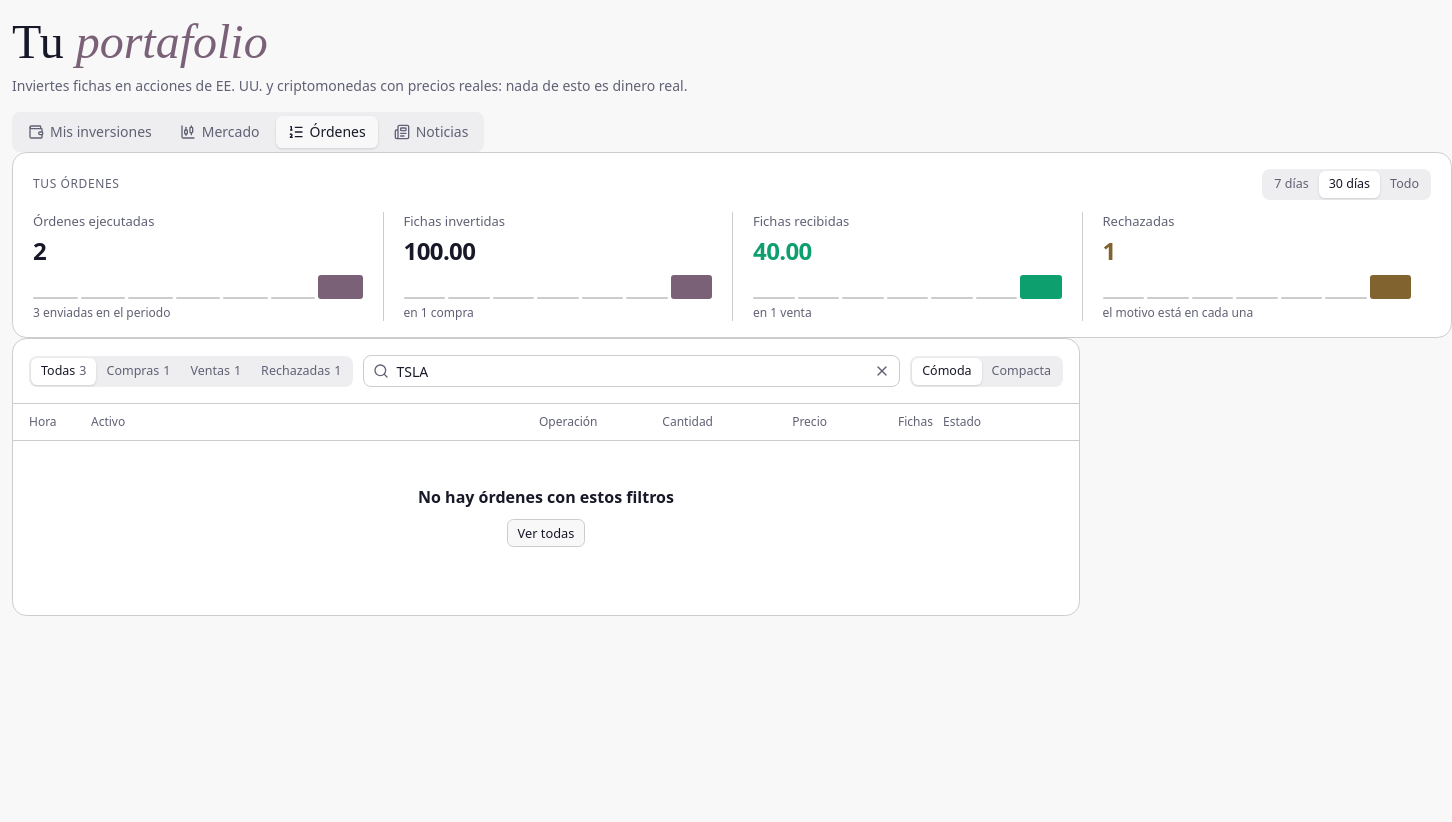
Test: OrdersPage › sin filtros que coincidan ofrece ver todas
The width and height of the screenshot is (1452, 822).
Click the button "Ver todas" at (546, 533), box [507, 519, 585, 547]
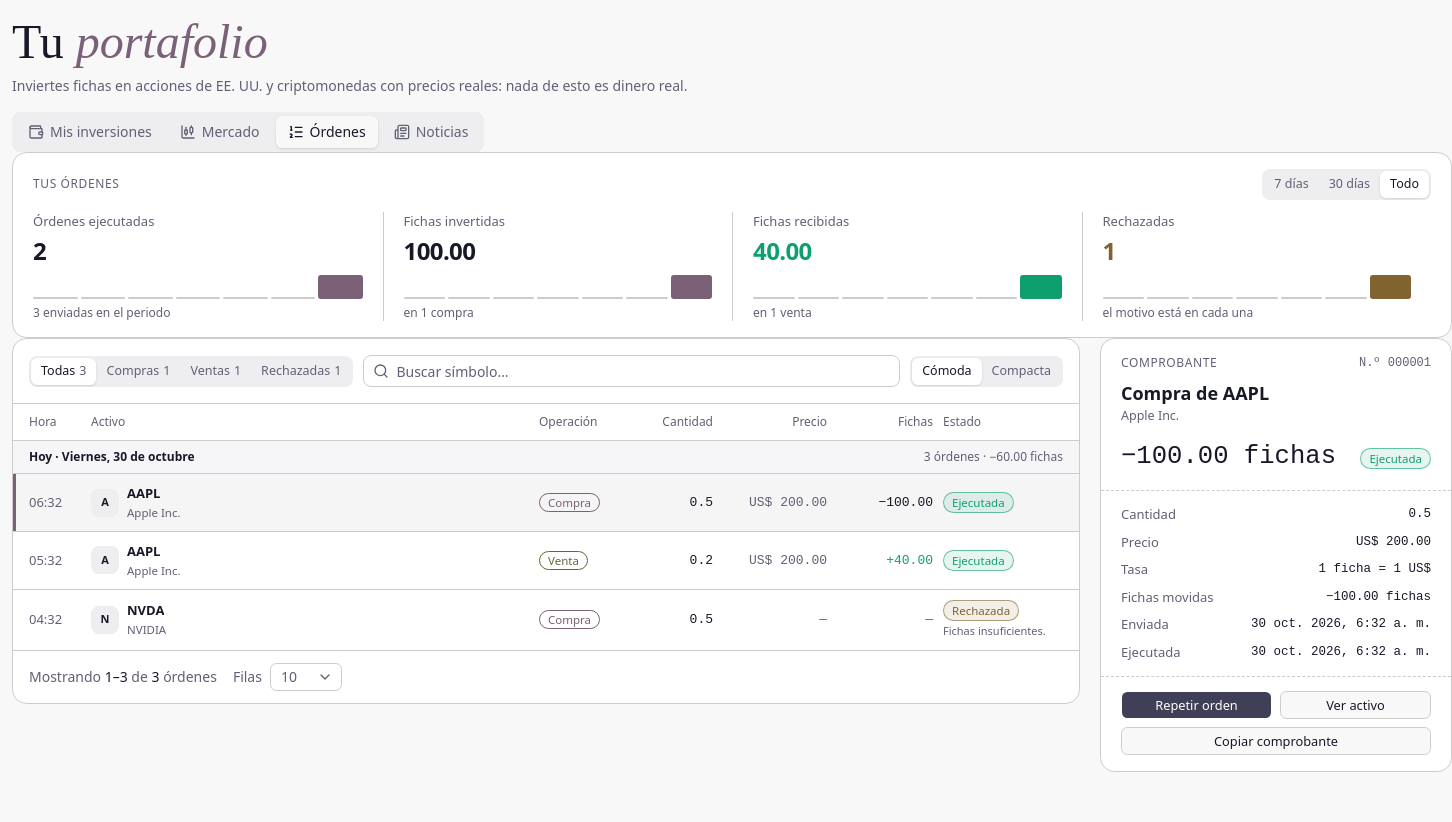
Now the button "NVDA" is shown, box [127, 601, 164, 621]
